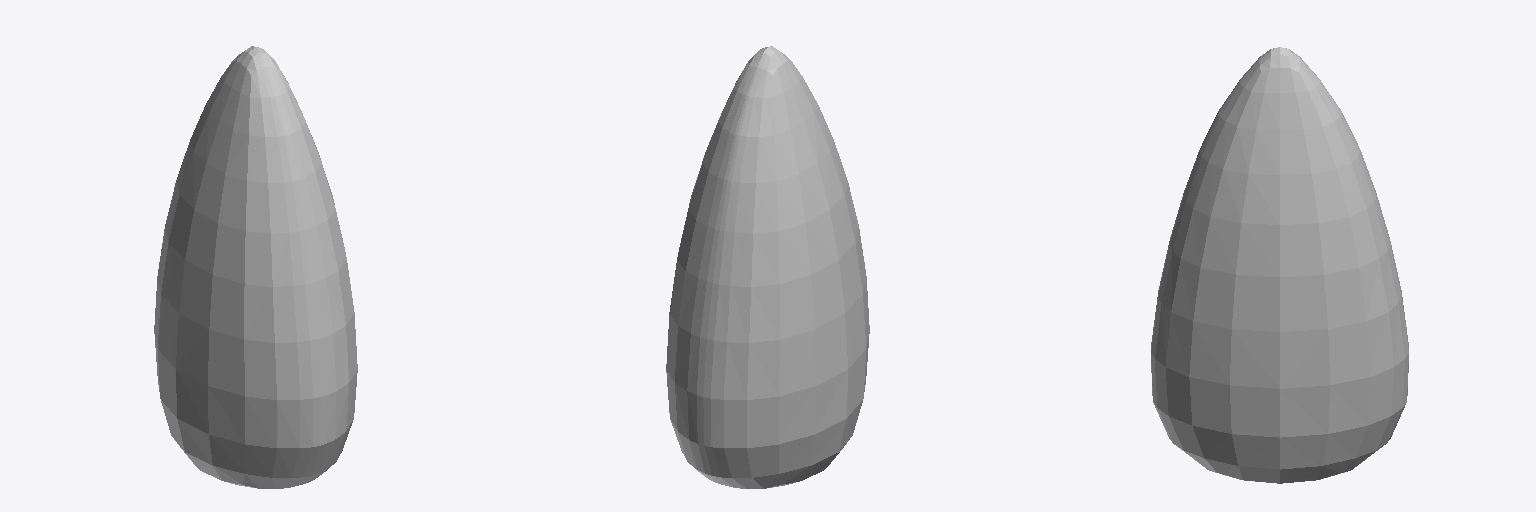
The model's file is candycorn.obj.
The picture shows the model from 3 angles: view 1: azimuth 30°, elevation 25°; view 2: azimuth 150°, elevation 25°; view 3: azimuth 270°, elevation 25°; orthographic projection.
Visible parts, largest first — view 1: CandyCorn; view 2: CandyCorn; view 3: CandyCorn.
Part boxes in pixels (x1,y1,x2,y2): CandyCorn: (154,46,357,488); CandyCorn: (666,46,869,488); CandyCorn: (1151,47,1408,483).
Size of the model in its own units: 0.2674 by 0.6658 by 0.3735.